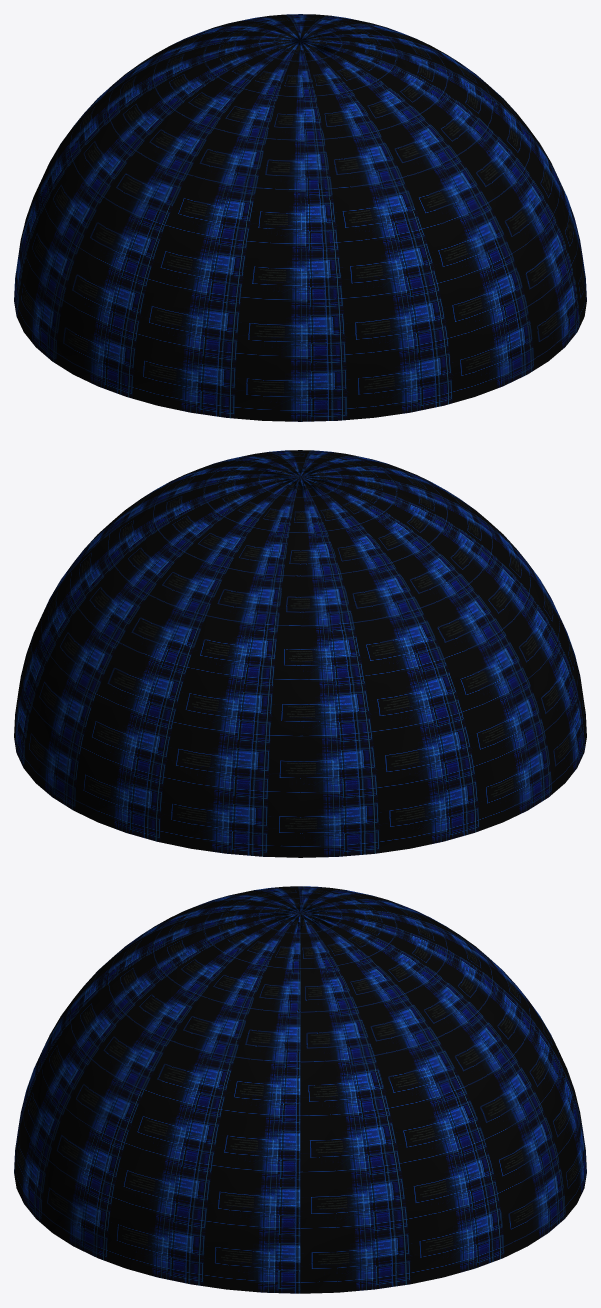
The model's file is BG Dome Top.fbx.
3 views of the same model, one above another, from view 1: azimuth 30°, elevation 25°; view 2: azimuth 150°, elevation 25°; view 3: azimuth 270°, elevation 25° (orthographic).
Visible parts, largest first — view 1: object_0; view 2: object_0; view 3: object_0.
Part boxes in pixels (x1=…): object_0: x1=14, y1=14, x2=586, y2=421; object_0: x1=14, y1=450, x2=586, y2=857; object_0: x1=14, y1=886, x2=586, y2=1293.
Bounding box in the file's own units: 76844 × 38422 × 76844.
